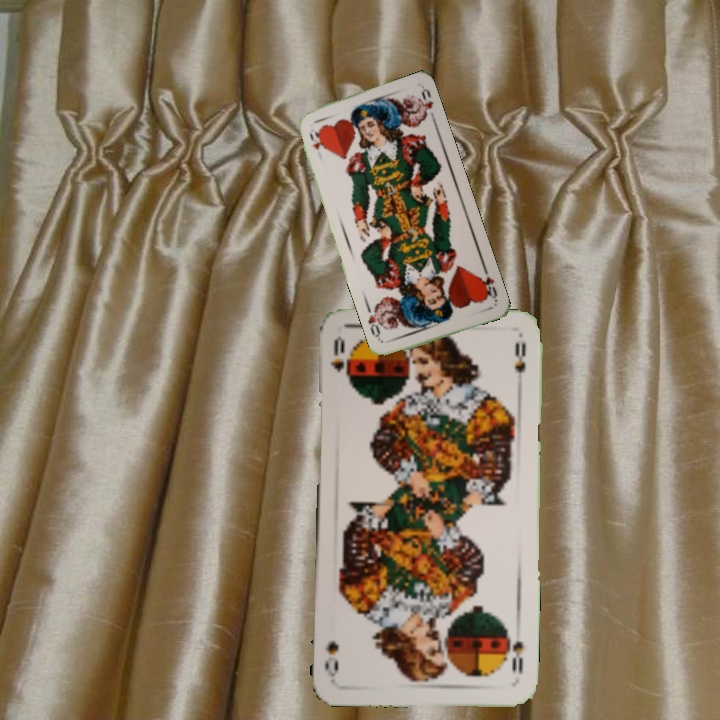HO: (476, 264, 500, 303), (305, 128, 324, 152)
SO: (326, 332, 347, 375), (508, 637, 526, 676)
